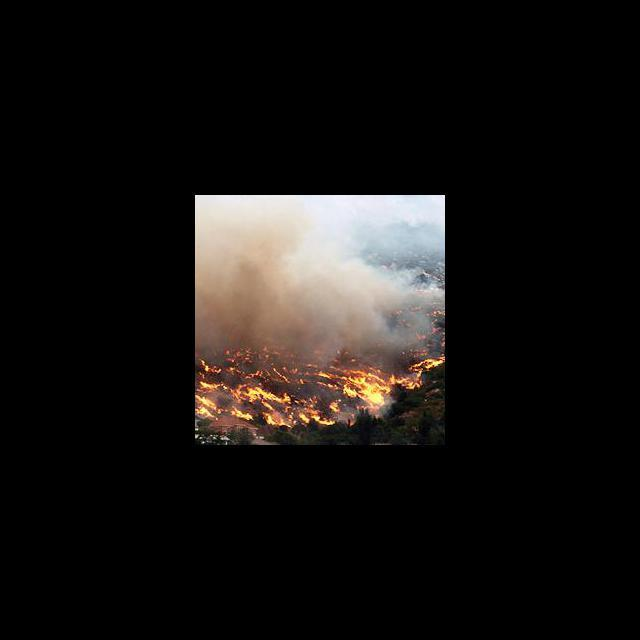Fire: (196, 356, 445, 426)
Smoke: (195, 210, 392, 350)
